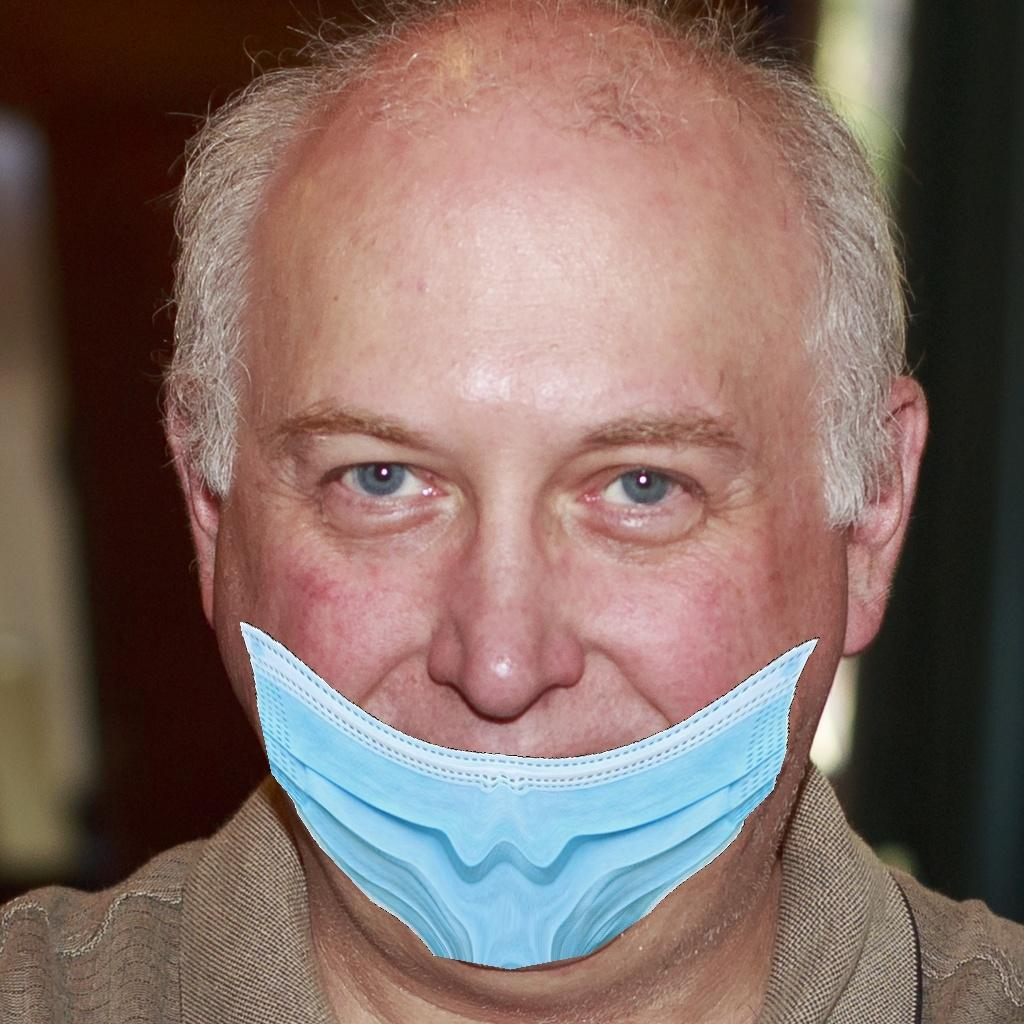Máscara Incorreta: (223, 305, 846, 951)
